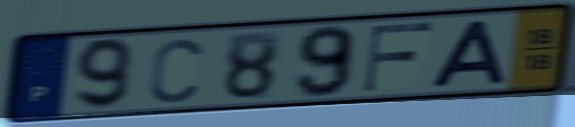8: (221, 30, 283, 103)
9: (290, 22, 358, 100), (71, 36, 136, 112)
A: (427, 17, 511, 90)
C: (146, 36, 206, 106)
F: (359, 20, 437, 95)
